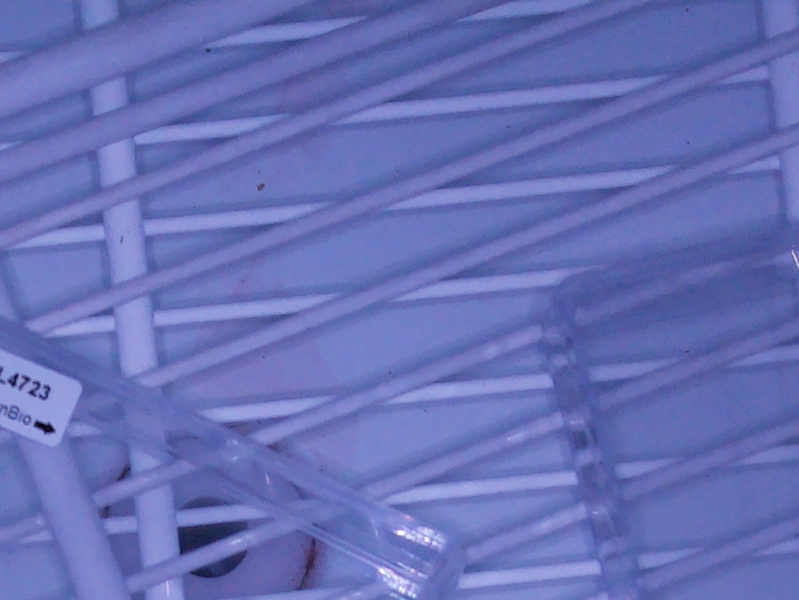plate: (1, 308, 474, 600), (534, 225, 799, 600)
